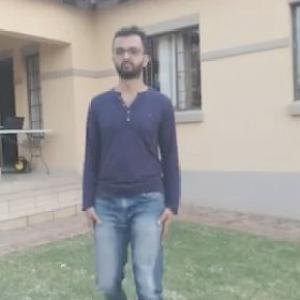follow: (83, 23, 177, 292)
